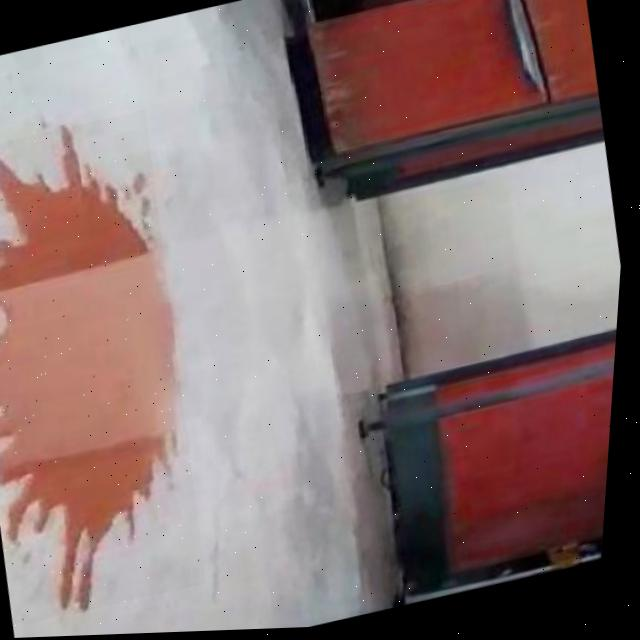spillage: (0, 129, 178, 612)
